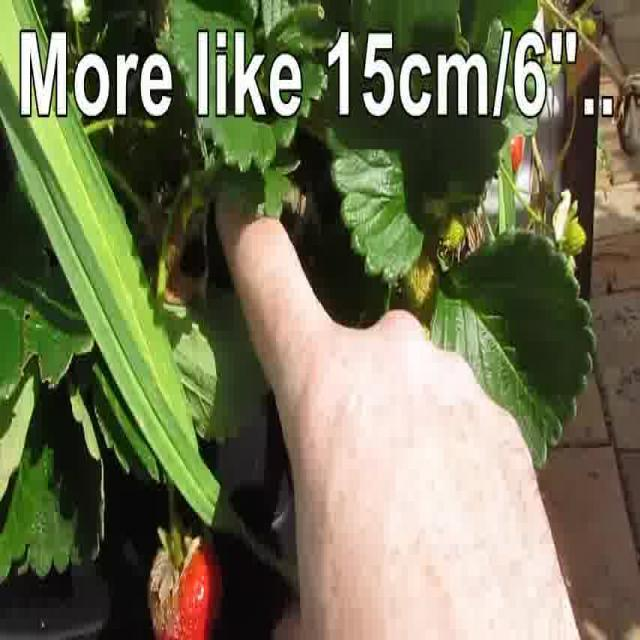Moho gris: (147, 524, 222, 640)
